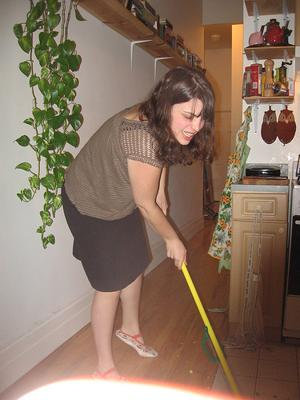person: (62, 64, 217, 381)
